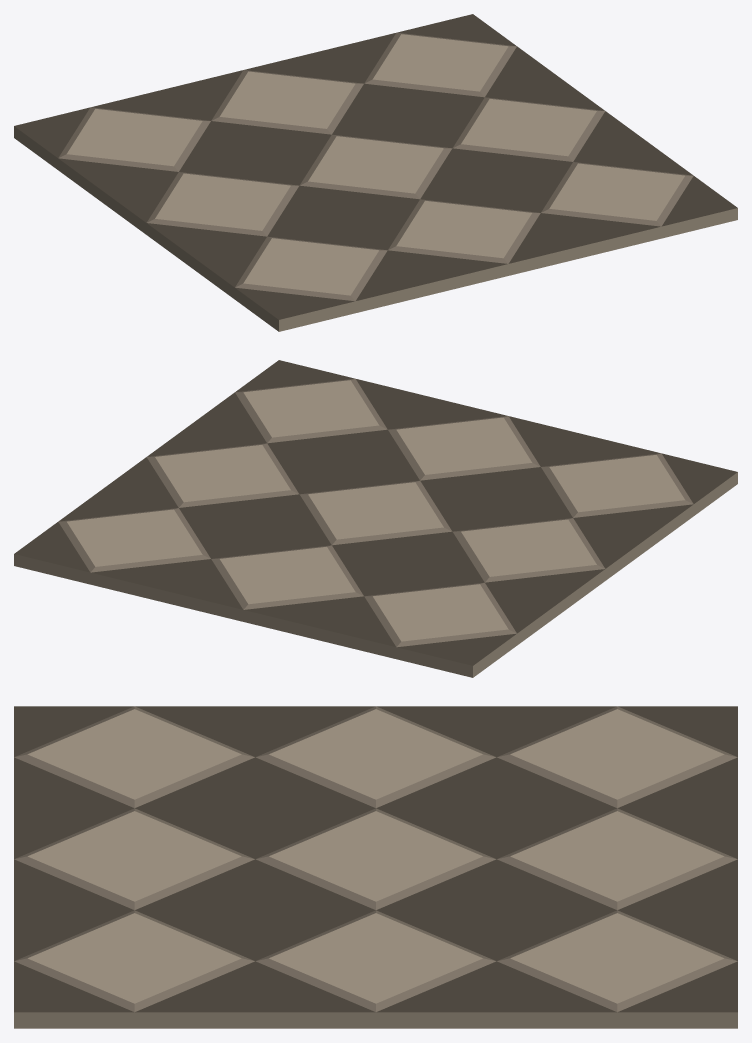
File: Floor_Tiles_2M_03.glb
3 renders of one model, top to bottom at view 1: azimuth 30°, elevation 25°; view 2: azimuth 150°, elevation 25°; view 3: azimuth 270°, elevation 25°, orthographic. The views are drawn at different scales.
Visible parts, largest first — view 1: Floor_Tiles_2M_03; view 2: Floor_Tiles_2M_03; view 3: Floor_Tiles_2M_03.
Boxes of the visible parts, box(x1,y1,x2,y2) form: Floor_Tiles_2M_03: box(14, 14, 737, 331); Floor_Tiles_2M_03: box(14, 360, 737, 677); Floor_Tiles_2M_03: box(14, 706, 737, 1028).
Size of what is drawn, in the model's own units: 2 by 0.0588 by 2.
1 material, 1 textured.
